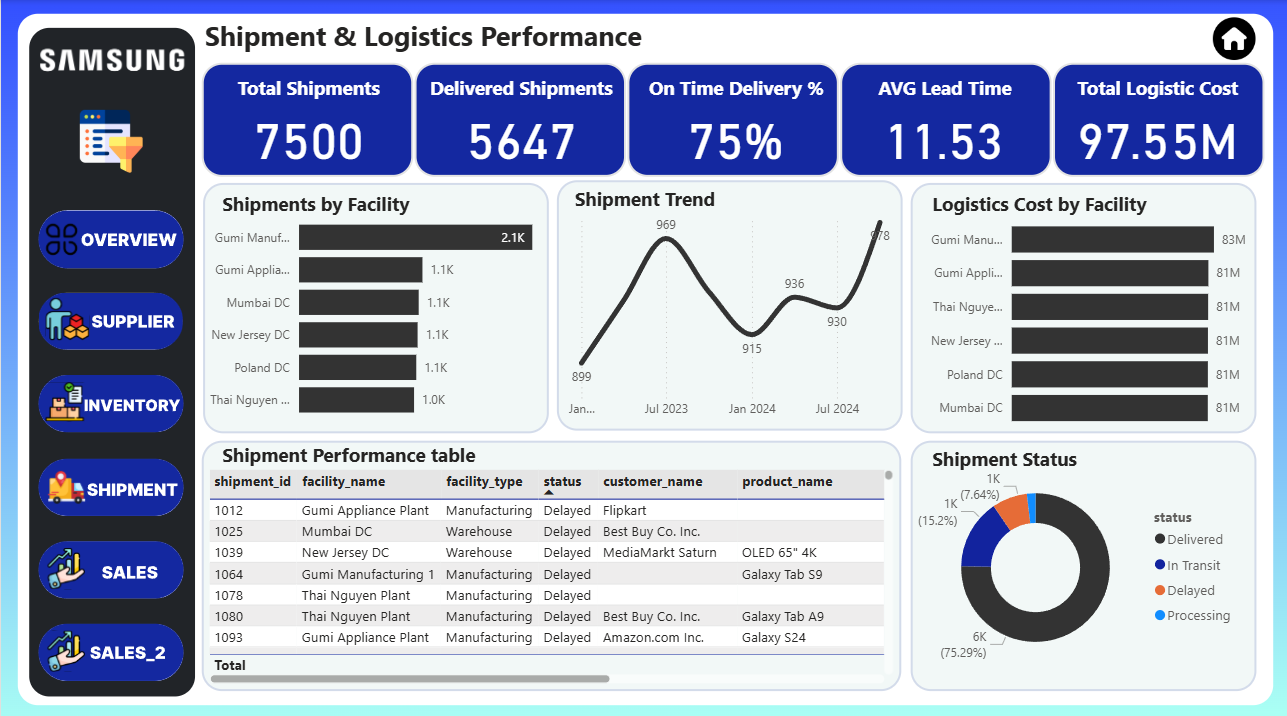

The page's visual inventory and layout, read from the dashboard file:
{"tool":"powerbi","page":{"name":"Shipment & Logistics","canvas":[1280,720],"ordinal":4},"visuals":[{"type":"card","fields":{"Values":["fact_shipment.total_shipments"]},"box":[202.3,96.9,207,75],"z":0},{"type":"actionButton","box":[37.2,208.1,144.2,58.1],"z":0,"group":"g1"},{"type":"actionButton","box":[37.2,290.7,143,57],"z":0,"group":"g4"},{"type":"actionButton","box":[37.6,372.9,144,57],"z":0,"group":"g2"},{"type":"actionButton","box":[37.2,455.2,144.2,57.1],"z":0,"group":"g5"},{"type":"actionButton","box":[37.2,537.5,144.2,57.1],"z":0,"group":"g3"},{"type":"actionButton","box":[37.2,619.8,144.2,57.1],"z":0,"group":"g6"},{"type":"card","fields":{"Values":["fact_shipment.delivered_shipments"]},"box":[412.7,96.9,207.8,75],"z":1000},{"type":"card","fields":{"Values":["fact_shipment.on_time_delivery_pct"]},"box":[625.7,96.9,207.8,75],"z":2000},{"type":"card","fields":{"Values":["fact_shipment.total_logistic_cost"]},"box":[1045.2,96.9,206.5,75],"z":3000},{"type":"card","fields":{"Values":["fact_procurement.avg_lead_time"]},"box":[833.5,96.9,206.5,75],"z":4000},{"type":"donutChart","fields":{"Category":["fact_shipment.status"],"Y":["fact_shipment.total_shipments"]},"box":[905.2,445.5,331.2,236.4],"z":5000},{"type":"lineChart","fields":{"Y":["fact_shipment.total_shipments"],"Category":["dim_date.date.Variation.Date Hierarchy.Year","dim_date.date.Variation.Date Hierarchy.Quarter"]},"box":[558.4,203.9,332.5,220.8],"z":6000},{"type":"clusteredBarChart","fields":{"Category":["dim_facility.facility_name"],"Y":["fact_shipment.total_logistic_cost"]},"box":[905.2,198.7,345.5,239],"z":7000},{"type":"tableEx","fields":{"Values":["fact_shipment.shipment_id","dim_facility.facility_name","dim_facility.facility_type","fact_shipment.status","dim_customer.customer_name","dim_product.product_name","fact_shipment.total_quantity_shipped","dim_date.date.Variation.Date Hierarchy.Year","dim_date.date.Variation.Date Hierarchy.Month","dim_date.date.Variation.Date Hierarchy.Day","fact_shipment.Delivery Date.Variation.Date Hierarchy.Year","fact_shipment.Delivery Date.Variation.Date Hierarchy.Month"]},"box":[201.3,462.3,689.6,222.1],"z":8000},{"type":"clusteredBarChart","fields":{"Y":["fact_shipment.total_shipments"],"Category":["dim_facility.facility_name"]},"box":[190.9,197.4,368.8,231.2],"z":9000},{"type":"textbox","box":[202.6,70.1,206.5,39],"z":10000},{"type":"textbox","box":[833.8,70.1,206.5,39],"z":11000},{"type":"textbox","box":[627.3,70.1,206.5,39],"z":12000},{"type":"textbox","box":[413,70.1,206.5,39],"z":13000},{"type":"textbox","box":[1045.5,70.1,207,39],"z":14000},{"type":"textbox","box":[214.3,184.4,302.6,48.1],"z":15000},{"type":"textbox","box":[919.5,184.4,302.6,48.1],"z":16000},{"type":"textbox","box":[564.9,180.5,302.6,35.1],"z":17000},{"type":"textbox","box":[919.5,437.7,302.6,48.1],"z":18000},{"type":"textbox","box":[214.3,435.1,302.6,48.1],"z":19000},{"type":"group","id":"g1","title":"overview_button","box":[37.2,208.1,144.2,58.1],"z":21000},{"type":"group","id":"g2","title":"overview_button","box":[37.6,372.9,144,57],"z":22000},{"type":"group","id":"g3","title":"overview_button","box":[37.2,537.5,144.2,57],"z":23000},{"type":"group","id":"g4","title":"overview_button","box":[37.2,290.7,143,57],"z":24000},{"type":"group","id":"g5","title":"overview_button","box":[37.2,455.2,144.2,57],"z":25000},{"type":"group","id":"g6","title":"overview_button","box":[37.2,619.8,144.2,57],"z":26000},{"type":"image","box":[56.4,104.5,106.9,72],"z":27000},{"type":"textbox","box":[197.6,12.3,520.3,46.9],"z":27501},{"type":"image","box":[1184.7,12.3,80.4,52.5],"z":27502}]}

Visuals, with their boxes in screenshot pixels (x1, y1, x2, y2), scaled from the page's 1280x720 canvas onto the 1287x716 screenshot:
card - fact_shipment.total_shipments: region(203, 96, 412, 171)
actionButton: region(37, 207, 182, 265)
actionButton: region(37, 289, 181, 346)
actionButton: region(38, 371, 183, 428)
actionButton: region(37, 453, 182, 509)
actionButton: region(37, 535, 182, 591)
actionButton: region(37, 616, 182, 673)
card - fact_shipment.delivered_shipments: region(415, 96, 624, 171)
card - fact_shipment.on_time_delivery_pct: region(629, 96, 838, 171)
card - fact_shipment.total_logistic_cost: region(1051, 96, 1259, 171)
card - fact_procurement.avg_lead_time: region(838, 96, 1046, 171)
donutChart - fact_shipment.status x fact_shipment.total_shipments: region(910, 443, 1243, 678)
lineChart - fact_shipment.total_shipments x dim_date.date.Variation.Date Hierarchy.Year: region(561, 203, 896, 422)
clusteredBarChart - dim_facility.facility_name x fact_shipment.total_logistic_cost: region(910, 198, 1258, 435)
tableEx - fact_shipment.shipment_id x dim_facility.facility_name: region(202, 460, 896, 681)
clusteredBarChart - fact_shipment.total_shipments x dim_facility.facility_name: region(192, 196, 563, 426)
textbox: region(204, 70, 411, 108)
textbox: region(838, 70, 1046, 108)
textbox: region(631, 70, 838, 108)
textbox: region(415, 70, 623, 108)
textbox: region(1051, 70, 1259, 108)
textbox: region(215, 183, 520, 231)
textbox: region(925, 183, 1229, 231)
textbox: region(568, 179, 872, 214)
textbox: region(925, 435, 1229, 483)
textbox: region(215, 433, 520, 481)
"overview_button" group: region(37, 207, 182, 265)
"overview_button" group: region(38, 371, 183, 428)
"overview_button" group: region(37, 535, 182, 591)
"overview_button" group: region(37, 289, 181, 346)
"overview_button" group: region(37, 453, 182, 509)
"overview_button" group: region(37, 616, 182, 673)
image: region(57, 104, 164, 176)
textbox: region(199, 12, 722, 59)
image: region(1191, 12, 1272, 64)
